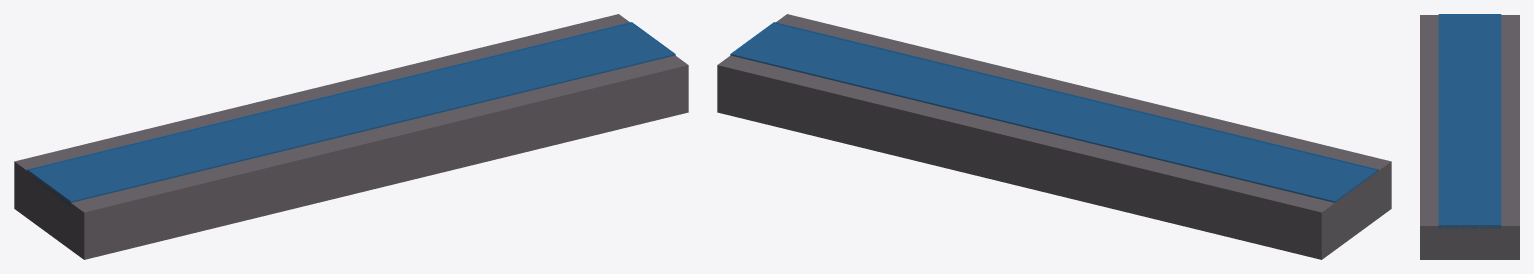
The model's file is Prop_OR_Channel_00.glb.
3 renders of one model, left to right at view 1: azimuth 30°, elevation 25°; view 2: azimuth 150°, elevation 25°; view 3: azimuth 270°, elevation 25°, orthographic. The views are drawn at different scales.
Visible parts, largest first — view 1: Prop_OR_Channel_00; view 2: Prop_OR_Channel_00; view 3: Prop_OR_Channel_00.
Boxes of the visible parts, left/top/right/bottom form: Prop_OR_Channel_00: left=14, top=14, right=688, bottom=259; Prop_OR_Channel_00: left=717, top=14, right=1391, bottom=259; Prop_OR_Channel_00: left=1420, top=14, right=1519, bottom=259.
Bounding box in the file's own units: 4 × 0.31 × 0.8.
